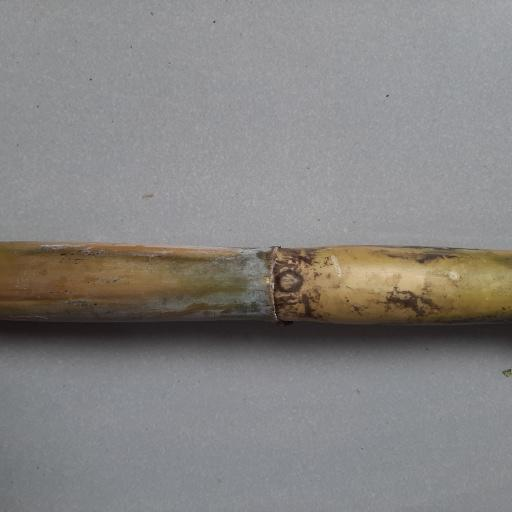Bud: (274, 270, 303, 293)
